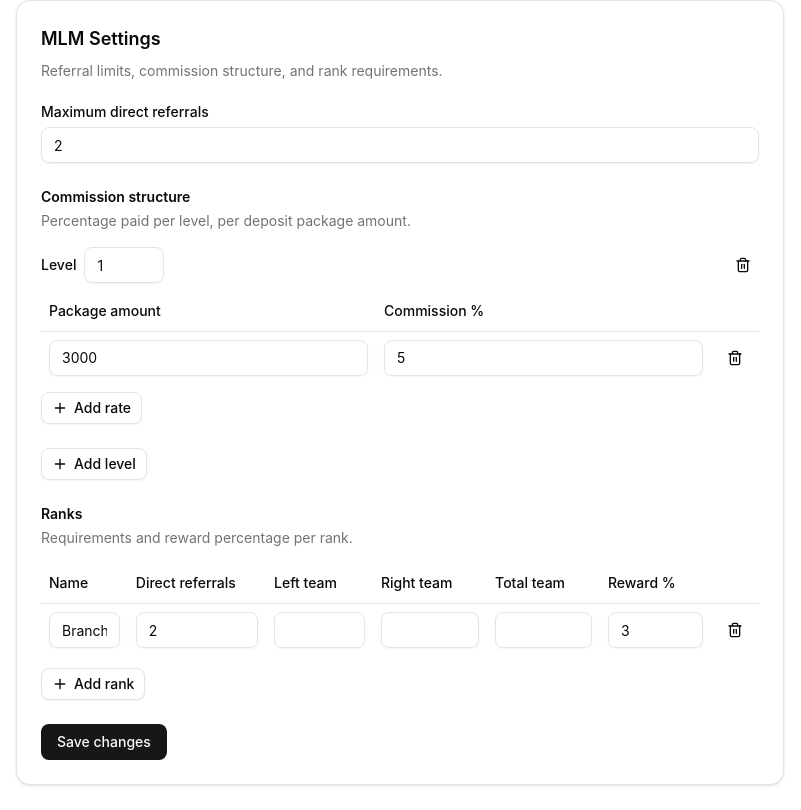
MlmSettingsPage › adds a commission level and a rate scoped to it
Check: the number field named "Level 1 number" is shown, box 84,247 -> 164,283
Click the button "Add level" at (94, 464), box 41,448 -> 147,480
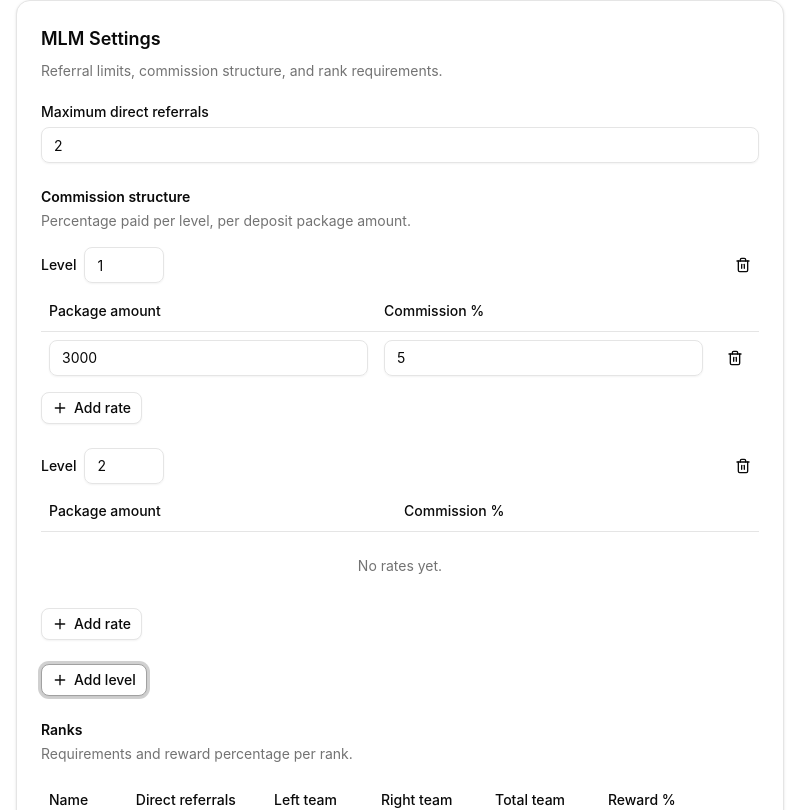
Check: the number of number fields named "Level 1 number" is 2, box 84,247 -> 164,283; 84,448 -> 164,484
Click the button "Add rate" below "No rates yet." at (92, 624), box 41,608 -> 142,640
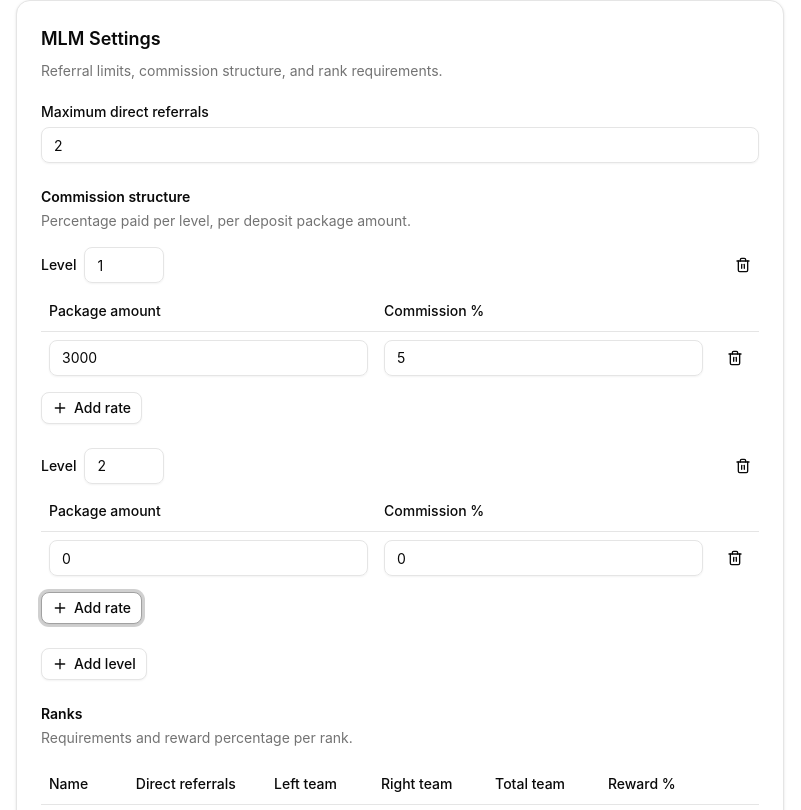
Check: the number field named "Level 2 rate 1 package amount" is shown, box 49,540 -> 368,576
